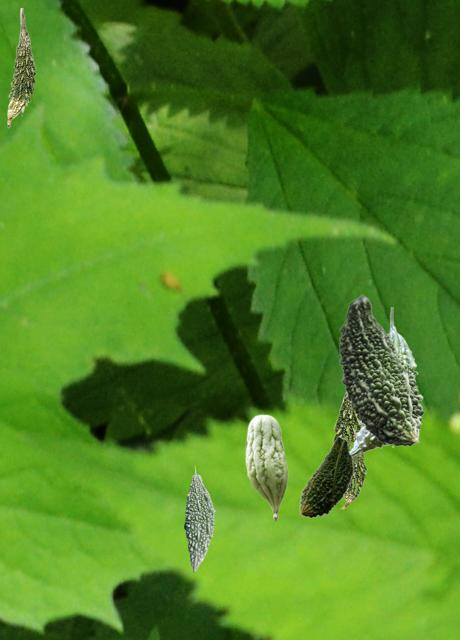ampalaya: (339, 294, 423, 445), (350, 307, 417, 456), (245, 414, 287, 520), (299, 436, 353, 517), (7, 8, 35, 127), (184, 465, 214, 571), (340, 427, 366, 508), (332, 392, 360, 448)
